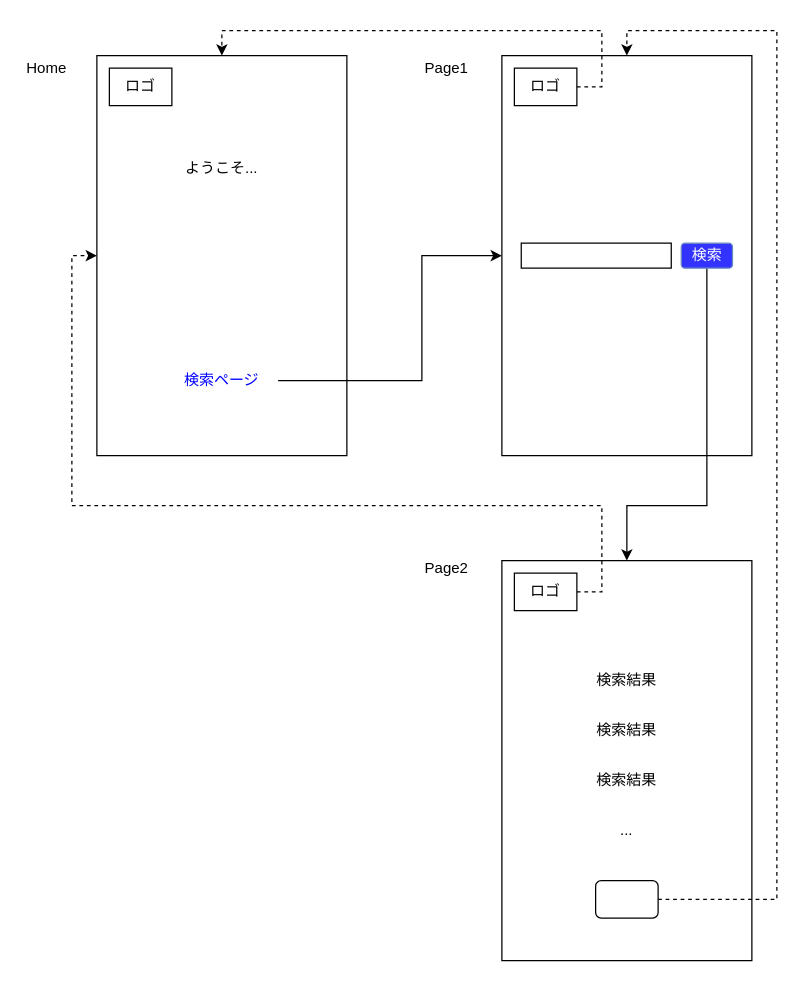
The diagram is 809 pixels wide and 983 high, and some of its shapes have lost their labels. The shapes that lost their labels are listed below. From the top down, each one's box as (x1, y1, x2, y2) in pixels, then its label:
(520, 242, 671, 268): placeholder...
(594, 879, 658, 918): 戻る
